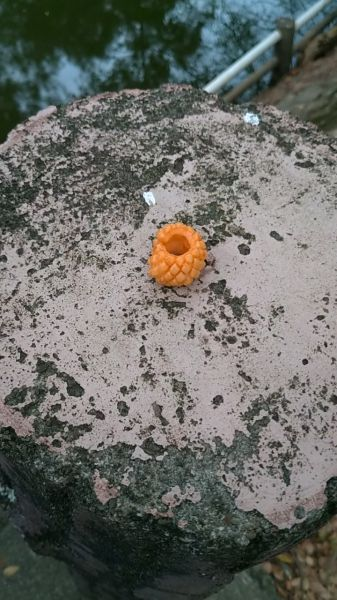eggs: (143, 219, 209, 290)
